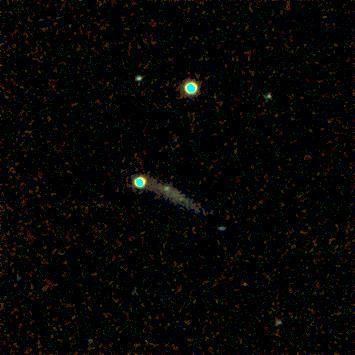star: (167, 182, 197, 212)
